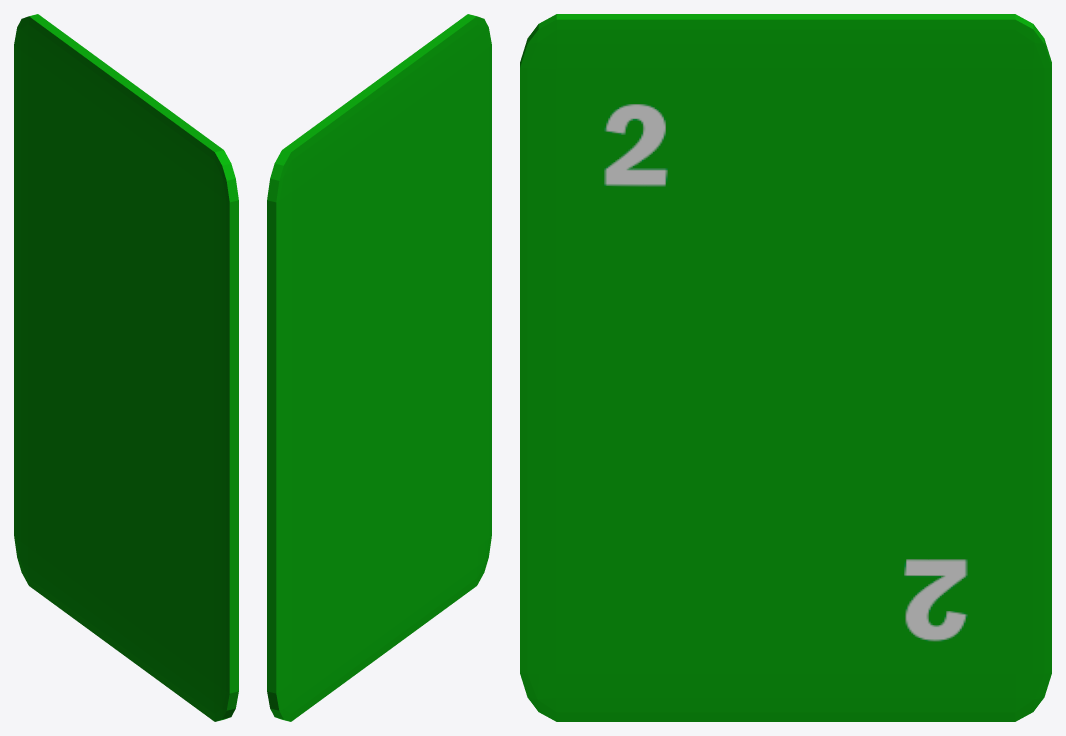
Rendered from 2verde.glb.
3 renders of one model, left to right at view 1: azimuth 30°, elevation 25°; view 2: azimuth 150°, elevation 25°; view 3: azimuth 270°, elevation 25°, orthographic. The views are drawn at different scales.
Visible parts, largest first — view 1: Cube; view 2: Cube; view 3: Cube.
Part boxes in pixels (x1,y1,x2,y2): Cube: [14, 14, 238, 721]; Cube: [267, 14, 491, 721]; Cube: [520, 14, 1051, 721].
Size of the model in its own units: 0.04 by 2.04 by 1.4.
Materials: 1 (1 with a texture image).
